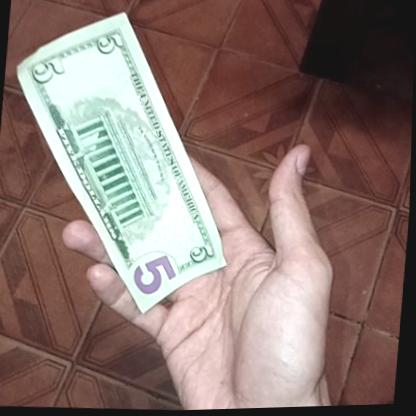five-back: (0, 2, 251, 326)
